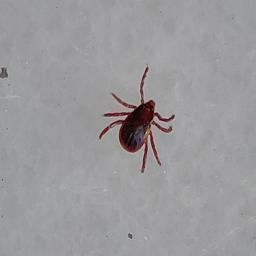Rhipicephalus sanguineus: (98, 65, 176, 174)
